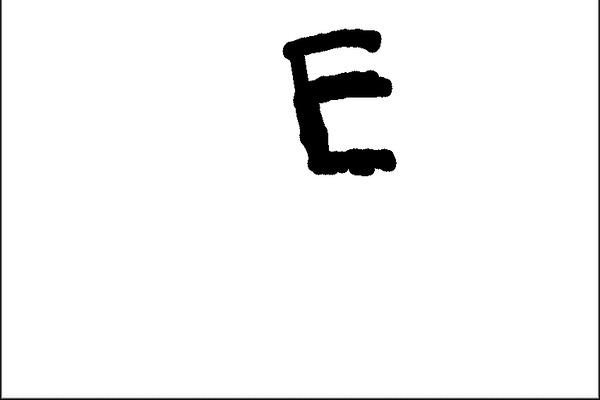E: (277, 24, 402, 177)
